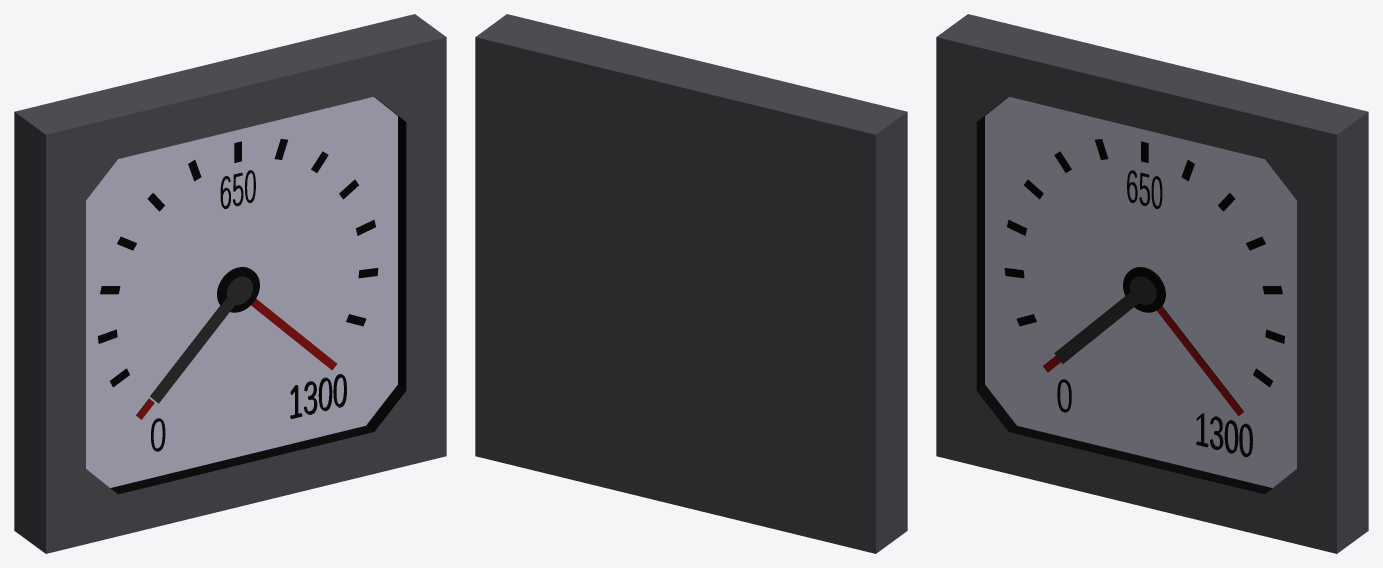
3 renders of one model, left to right at view 1: azimuth 30°, elevation 25°; view 2: azimuth 150°, elevation 25°; view 3: azimuth 330°, elevation 25°, orthographic.
Parts seen in each view (by area): view 1: object_1, object_2; view 2: object_1; view 3: object_1, object_2.
Part boxes in pixels (x1=…): object_1: x1=14, y1=14, x2=446, y2=553; object_2: x1=150, y1=267, x2=259, y2=403; object_1: x1=475, y1=14, x2=907, y2=553; object_1: x1=936, y1=14, x2=1368, y2=553; object_2: x1=1054, y1=267, x2=1165, y2=363.
Bounding box in the file's own units: 0.8 × 0.8 × 0.1092.
Materials: 1 (1 with a texture image).
